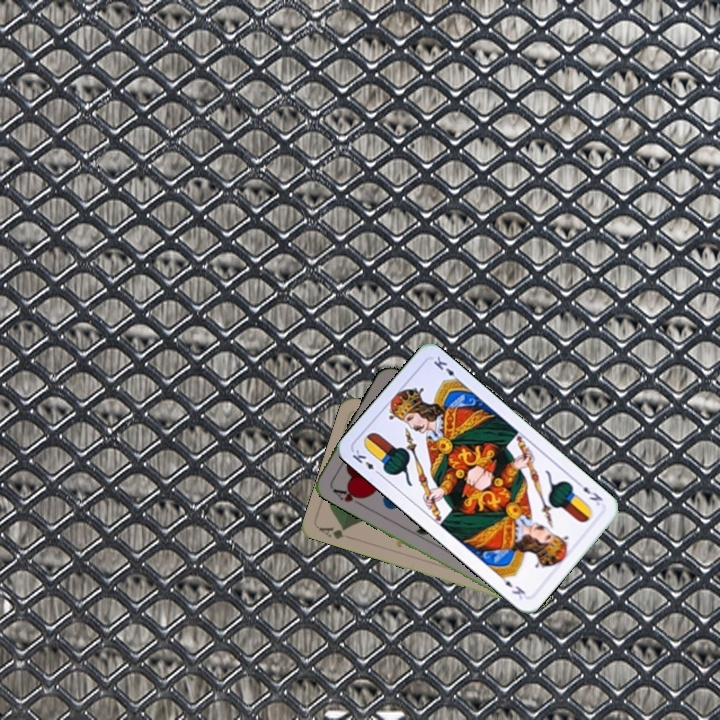EK: (348, 445, 384, 478), (572, 477, 605, 508)
GA: (315, 523, 350, 542)
HA: (328, 483, 368, 509)
